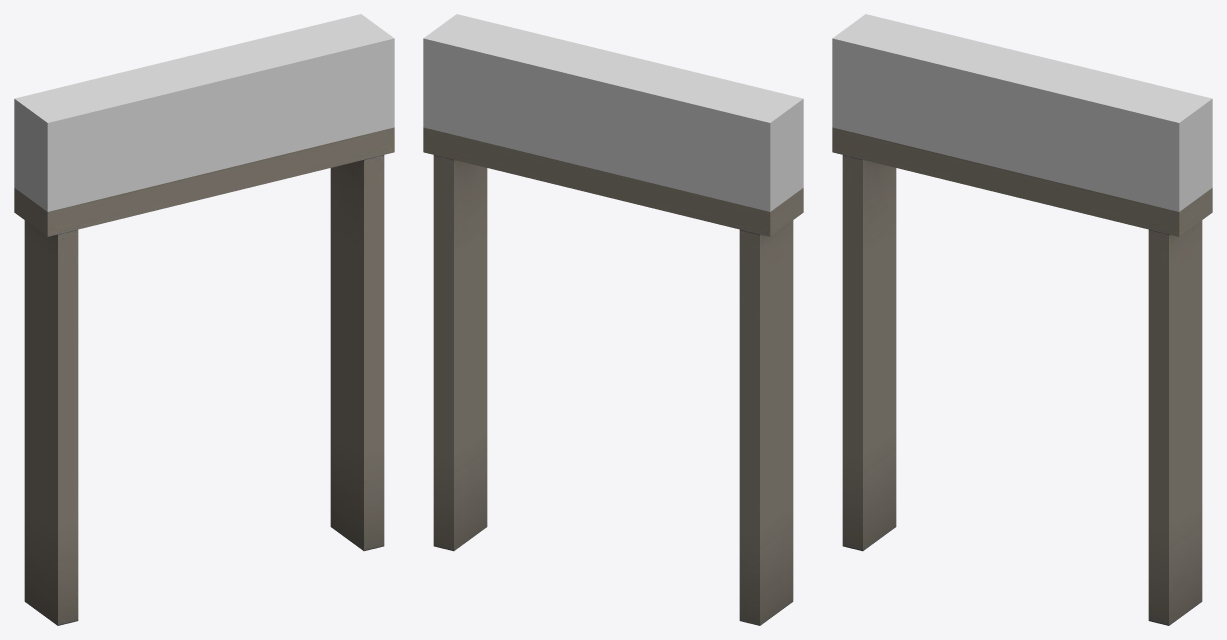
The model's file is door_frame.glb.
3 views of the same model, side by side, from view 1: azimuth 30°, elevation 25°; view 2: azimuth 150°, elevation 25°; view 3: azimuth 330°, elevation 25° (orthographic).
Visible parts, largest first — view 1: DoorFrame, COL_Header; view 2: DoorFrame, COL_Header; view 3: DoorFrame, COL_Header.
Part boxes in pixels (x1=…): DoorFrame: x1=14, y1=127, x2=394, y2=625; COL_Header: x1=14, y1=14, x2=394, y2=211; DoorFrame: x1=423, y1=127, x2=803, y2=625; COL_Header: x1=423, y1=14, x2=803, y2=211; DoorFrame: x1=832, y1=127, x2=1212, y2=625; COL_Header: x1=832, y1=14, x2=1212, y2=211.
Bounding box in the file's own units: 2.04 × 2.84 × 0.3401.
2 materials, 2 textured.
